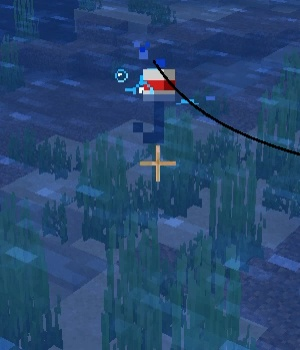up: (130, 65, 180, 148)
